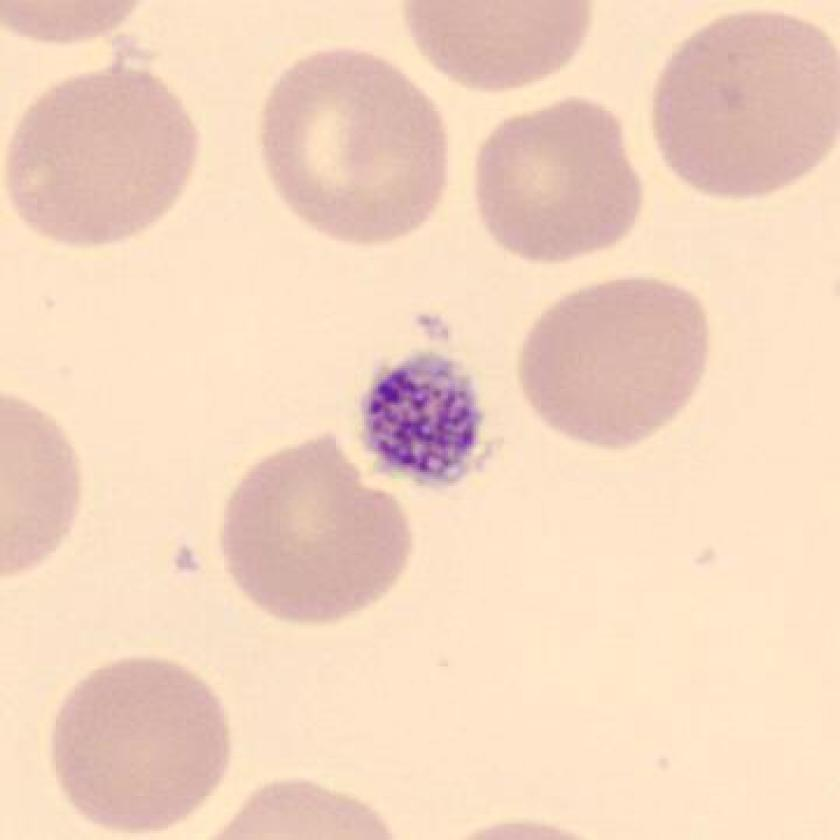platelets: (349, 348, 500, 492)
